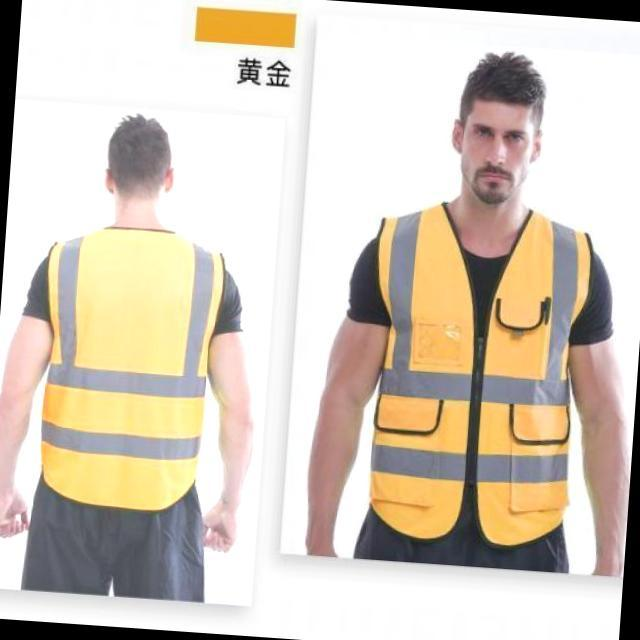Human: (293, 33, 640, 576), (0, 99, 285, 606)
Safety Vest: (349, 190, 599, 555), (17, 218, 228, 513)
